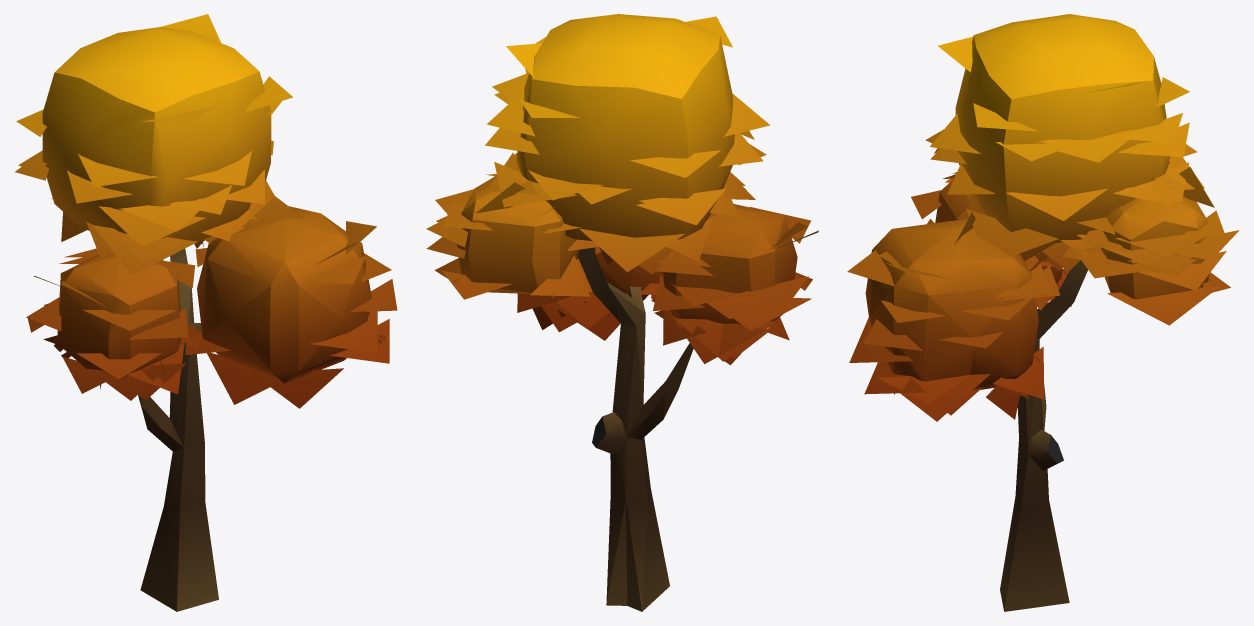
The model's file is Tree_5F.fbx.
The picture shows the model from 3 angles, left to right: view 1: azimuth 30°, elevation 25°; view 2: azimuth 150°, elevation 25°; view 3: azimuth 270°, elevation 25°; orthographic projection. The views are drawn at different scales.
Parts seen in each view (by area): view 1: Tree_5F; view 2: Tree_5F; view 3: Tree_5F.
Boxes of the visible parts, x1=… form: Tree_5F: x1=15, y1=14, x2=397, y2=611; Tree_5F: x1=426, y1=14, x2=818, y2=611; Tree_5F: x1=847, y1=14, x2=1239, y2=611.
Bounding box in the file's own units: 569 × 914 × 582.
1 material, 1 textured.
